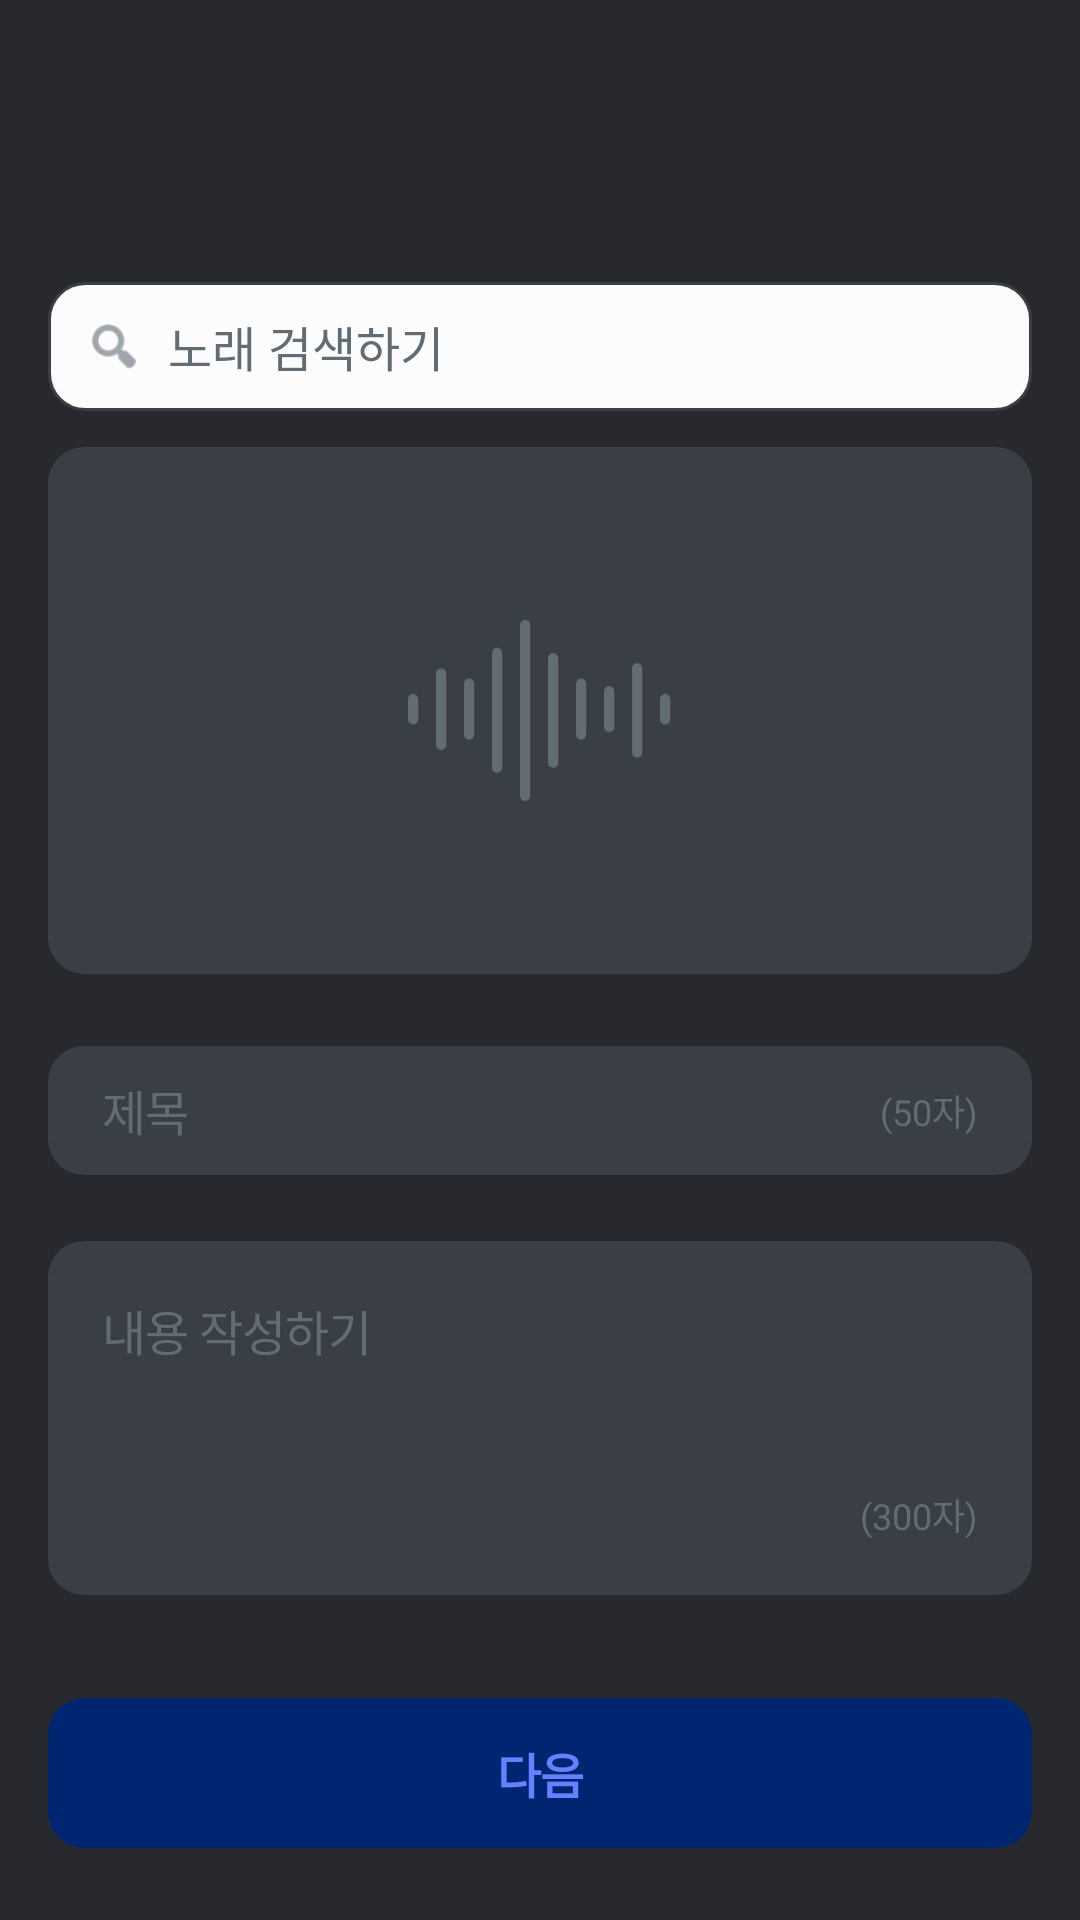

Locate icon controls on the screen. Image size 1080px×1920px, boxes as (x1, y1, x2, y2).
search: (92, 324, 136, 368)
